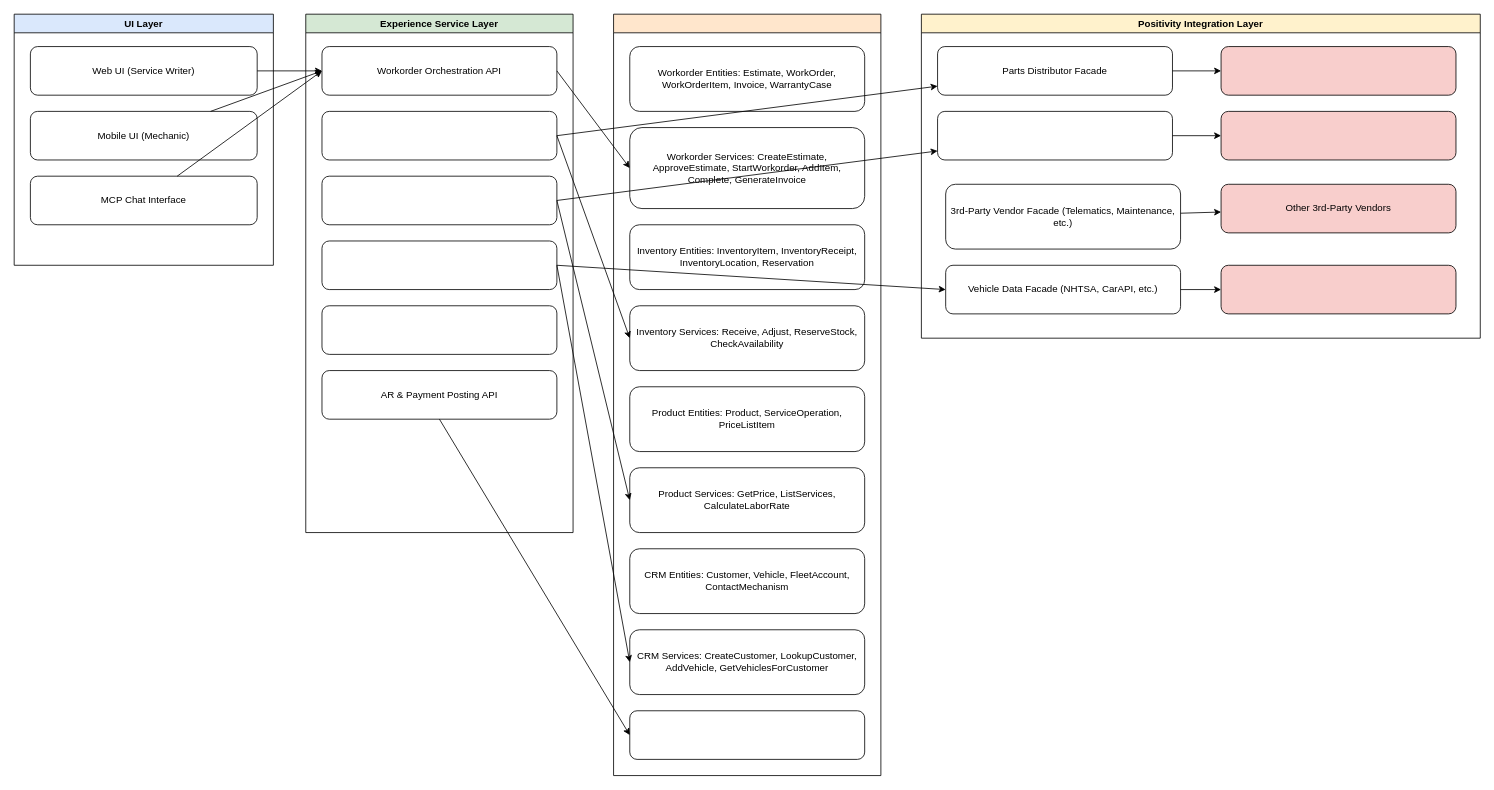
Some shapes in this 1494 by 790 pixel diagram are drawn without their labels. The shapes that lost their labels are listed below. From the top down, each one's box as (x1, y1, x2, y2) in pixels, then its label:
(1220, 46, 1456, 95): Parts Distributors
(321, 111, 557, 160): Inventory Availability API
(937, 111, 1172, 160): Tire OEM & Distributor Facade
(1220, 111, 1456, 160): Tire OEMs & Distributors
(321, 175, 557, 225): Pricing Lookup API
(321, 240, 557, 290): Customer & Vehicle API
(1220, 264, 1456, 314): Vehicle Data Providers (NHTSA, CarAPI,...)
(321, 305, 557, 354): Shop Management API
(613, 13, 881, 776): Moqui Base Services & Entity Engine
(629, 710, 865, 759): Accounting Entities: ARTransaction, Payment
